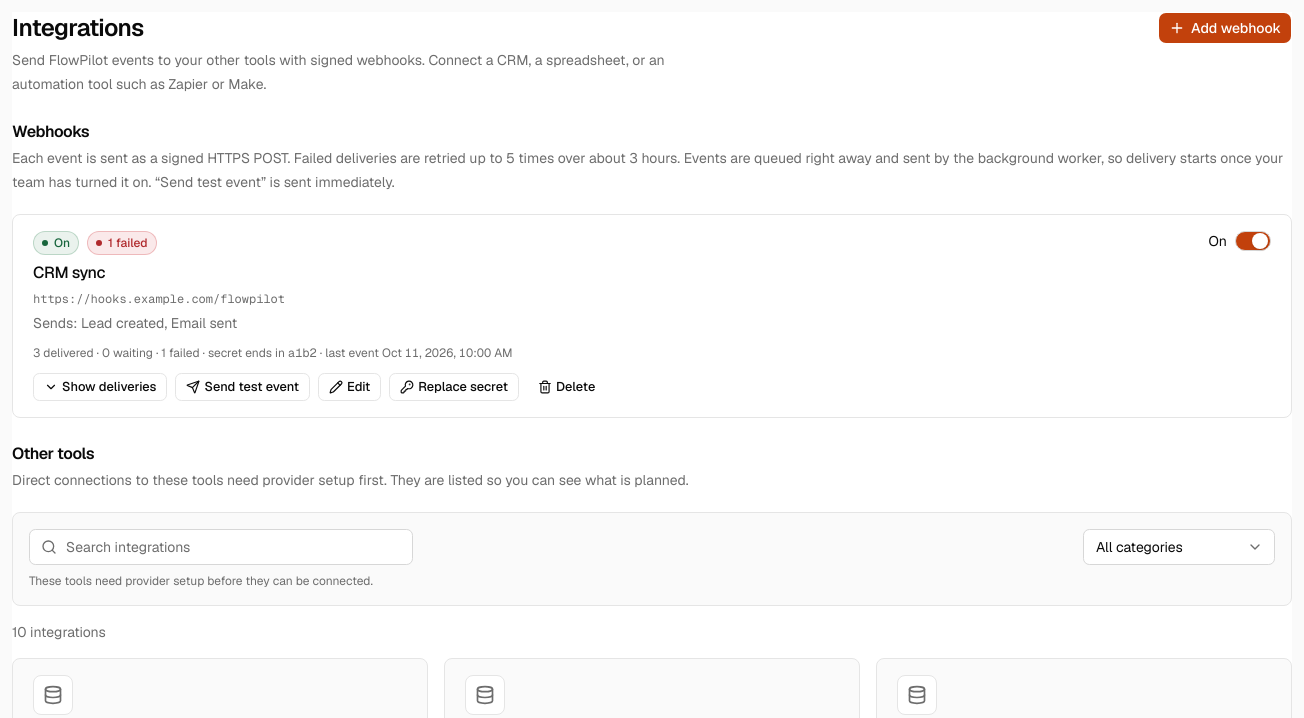
Integrations page › reports the result of a test event
Click the button with aria-label "Send test event to CRM sync" at (243, 387), box [176,373,310,401]
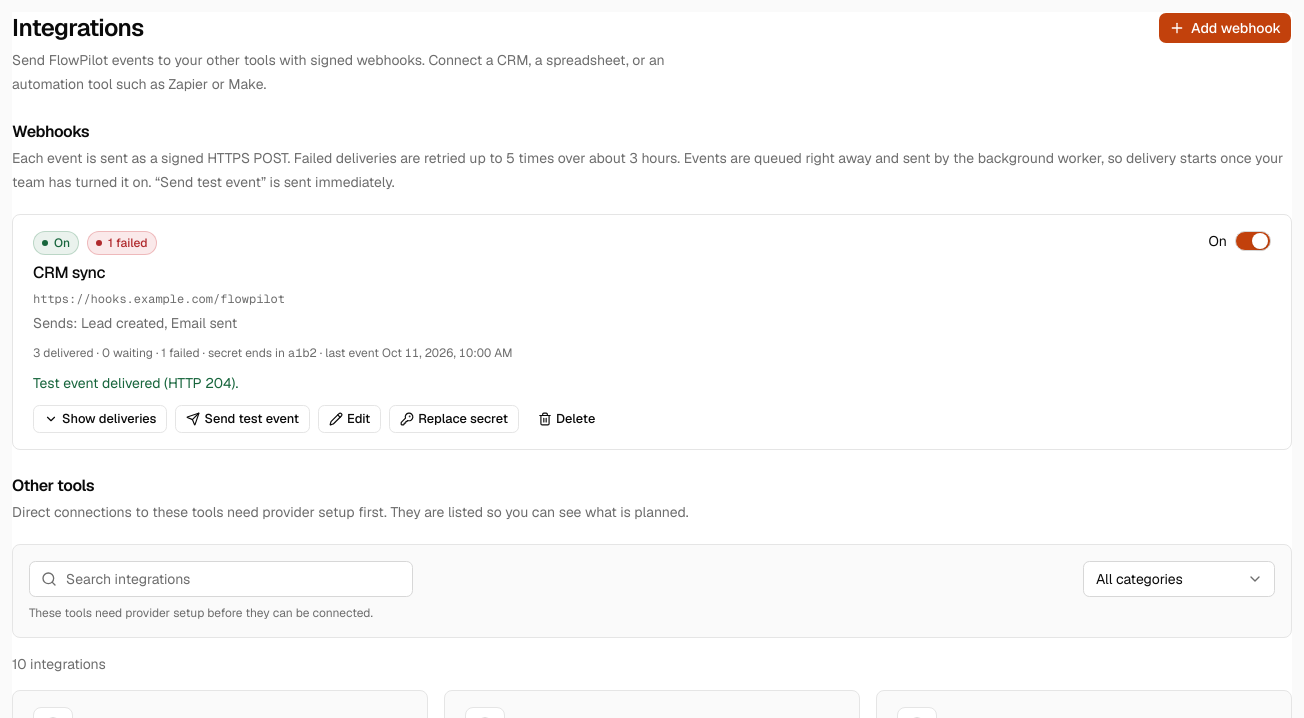
Expected: the text "Test event delivered (HTTP 204)." is shown, [33,374,238,392]
Click the button with aria-label "Send test event to CRM sync" at (243, 419), box [176,405,310,433]
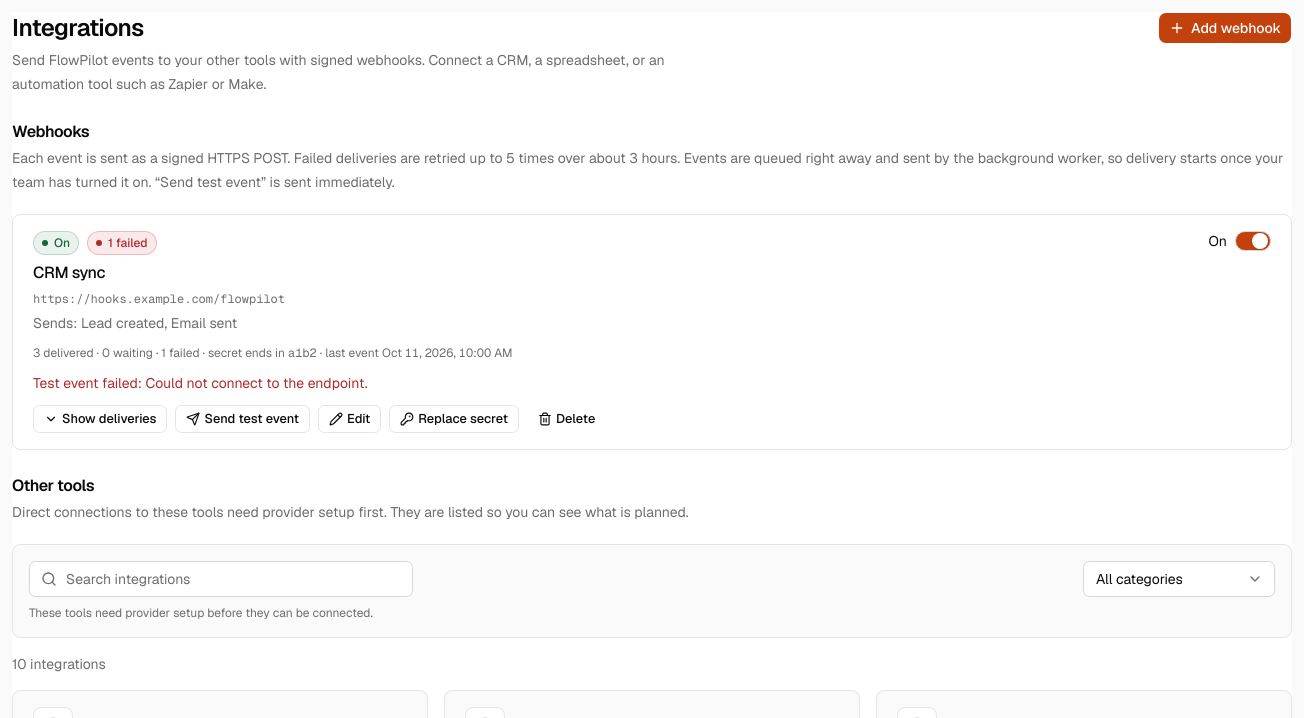
Expected: the text "Test event failed: Could not connect to the endpoint." is shown, [33,374,368,392]
